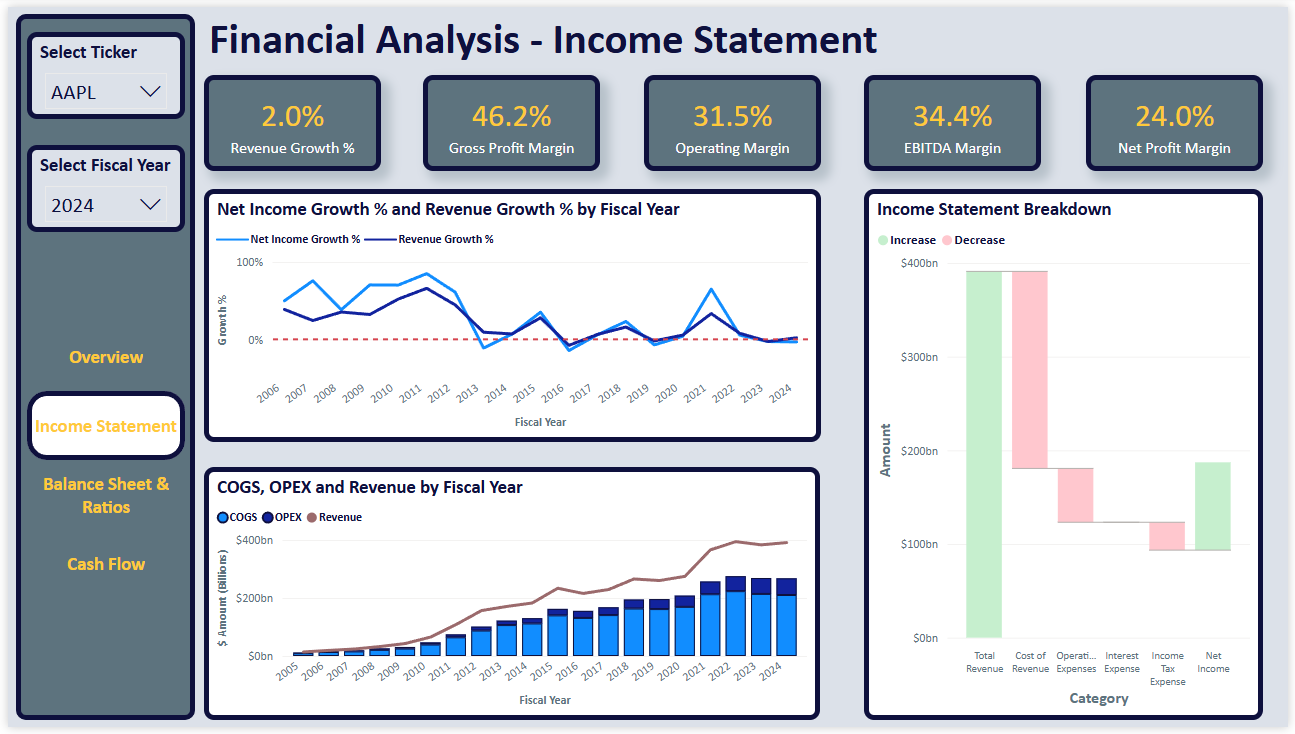

What the dashboard file says about the page in this screenshot:
{"tool":"powerbi","page":{"name":"Income Statement","canvas":[1280,720],"ordinal":1},"visuals":[{"type":"textbox","title":"Title","box":[196,0,882.3,68.3],"z":0},{"type":"card","fields":{"Values":["Income Statement.Revenue Growth %"]},"box":[196,68.3,176.7,95.6],"z":0,"group":"g1"},{"type":"actionButton","box":[18.6,314.8,158,69],"z":0,"group":"g2"},{"type":"shape","box":[8,7,179,706],"z":1000},{"type":"card","fields":{"Values":["Income Statement.Gross Profit Margin"]},"box":[414.9,68.3,176.7,95.6],"z":1000,"group":"g1"},{"type":"actionButton","box":[18.6,383.8,158,69],"z":1000,"group":"g2"},{"type":"slicer","title":"Select Ticker","fields":{"Values":["Income Statement.Ticker"]},"box":[19,25,158,87],"z":2000},{"type":"card","fields":{"Values":["Income Statement.Operating Margin"]},"box":[636,68.3,176.7,95.6],"z":2000,"group":"g1"},{"type":"actionButton","box":[18.6,452.8,158,69],"z":2000,"group":"g2"},{"type":"card","fields":{"Values":["Income Statement.EBITDA Margin"]},"box":[856,68.3,176.7,95.6],"z":3000,"group":"g1"},{"type":"slicer","title":"Select Fiscal Year","fields":{"Values":["Income Statement.FiscalYear"]},"box":[19,138,158,87],"z":3000},{"type":"actionButton","box":[18.6,521.8,158,69],"z":3000,"group":"g2"},{"type":"group","id":"g1","title":"Group 1","box":[196,68.3,1057.8,95.8],"z":4000},{"type":"card","fields":{"Values":["Income Statement.Net Profit Margin"]},"box":[1078.2,68.3,176.7,95.6],"z":4000,"group":"g1"},{"type":"lineChart","fields":{"Category":["Income Statement.FiscalYear"],"Y":["select","Income Statement.Net Income Growth %","Income Statement.Revenue Growth %"]},"box":[196.4,181.8,616.4,252.7],"z":5000},{"type":"lineStackedColumnComboChart","fields":{"Category":["Income Statement.FiscalYear"],"Y":["select","Sum(Income Statement.costofGoodsAndServicesSold)","Sum(Income Statement.operatingExpenses)"],"Y2":["Sum(Income Statement.revenue)"]},"box":[196,460.2,616.3,252.7],"z":6000},{"type":"waterfallChart","title":"Income Statement Breakdown","fields":{"Category":["IncomeStatementWaterfall.Category"],"Y":["IncomeStatementWaterfall.Amount"]},"box":[855.7,181.8,399,531.1],"z":7000},{"type":"group","id":"g2","title":"Group 2","box":[18.6,314.8,158.7,275.8],"z":8000}]}

Visuals, with their boxes in screenshot pixels (x1, y1, x2, y2), scaled from the page's 1280x720 canvas onto the 1295x734 screenshot:
"Title" textbox: bbox(198, 0, 1091, 70)
card - Income Statement.Revenue Growth %: bbox(198, 70, 377, 167)
actionButton: bbox(19, 321, 179, 391)
shape: bbox(8, 7, 189, 727)
card - Income Statement.Gross Profit Margin: bbox(420, 70, 599, 167)
actionButton: bbox(19, 391, 179, 462)
"Select Ticker" slicer: bbox(19, 25, 179, 114)
card - Income Statement.Operating Margin: bbox(643, 70, 822, 167)
actionButton: bbox(19, 462, 179, 532)
card - Income Statement.EBITDA Margin: bbox(866, 70, 1045, 167)
"Select Fiscal Year" slicer: bbox(19, 141, 179, 229)
actionButton: bbox(19, 532, 179, 602)
"Group 1" group: bbox(198, 70, 1268, 167)
card - Income Statement.Net Profit Margin: bbox(1091, 70, 1270, 167)
lineChart - Income Statement.FiscalYear x select: bbox(199, 185, 822, 443)
lineStackedColumnComboChart - Income Statement.FiscalYear x select: bbox(198, 469, 822, 727)
"Income Statement Breakdown" waterfallChart: bbox(866, 185, 1269, 727)
"Group 2" group: bbox(19, 321, 179, 602)
